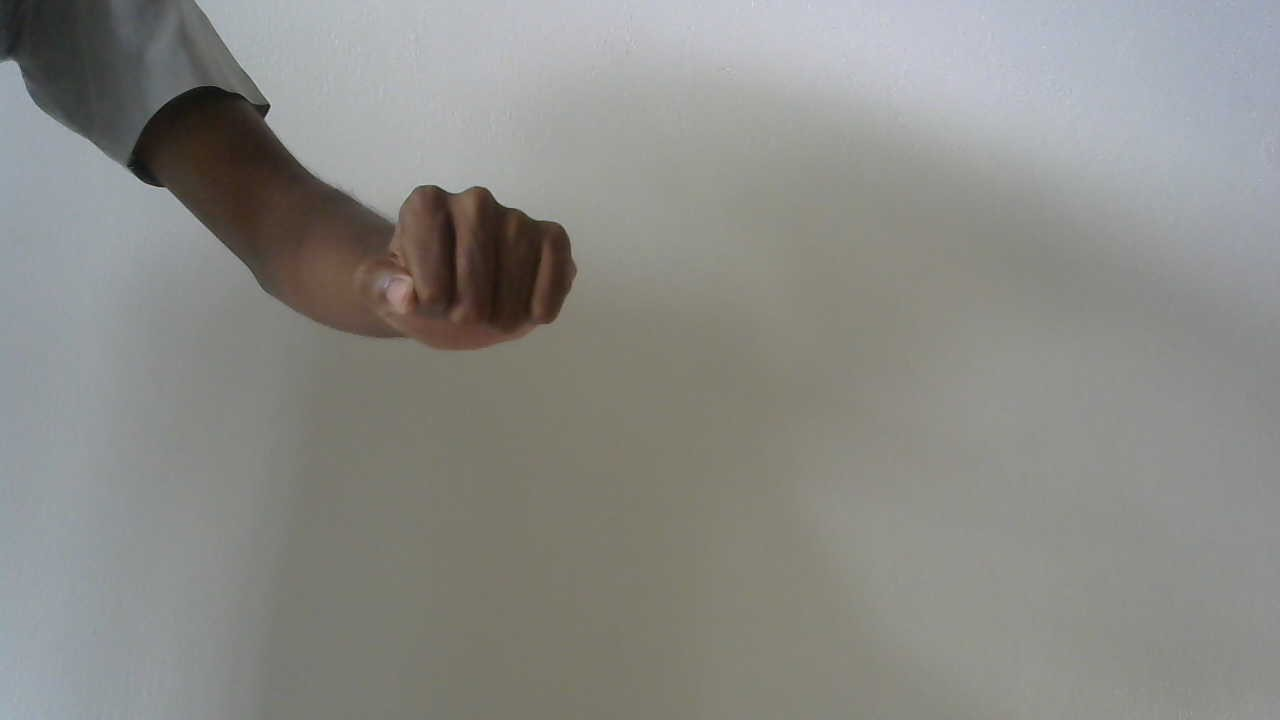yes: (339, 153, 608, 388)
